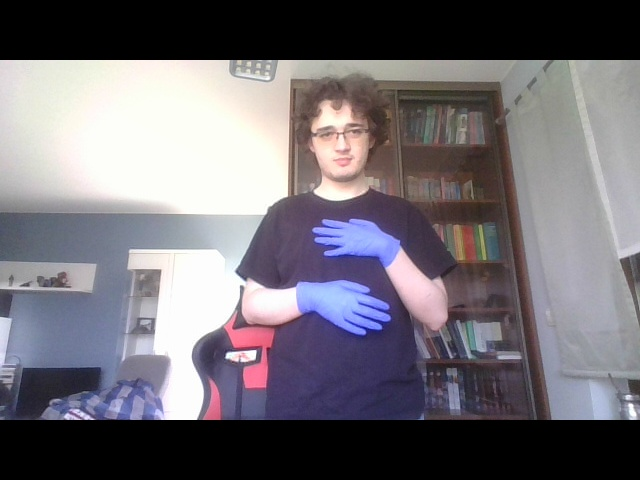glove: (297, 272, 392, 338), (310, 213, 401, 269)
